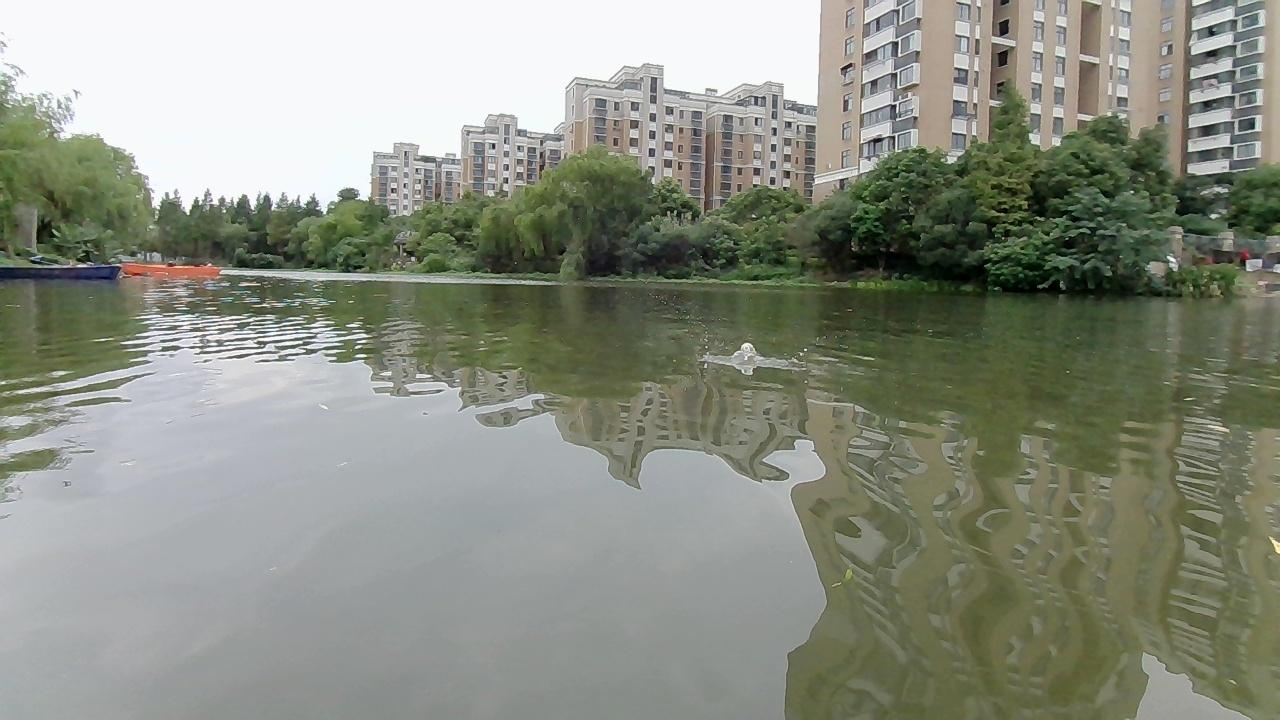bottle: (728, 342, 760, 367)
